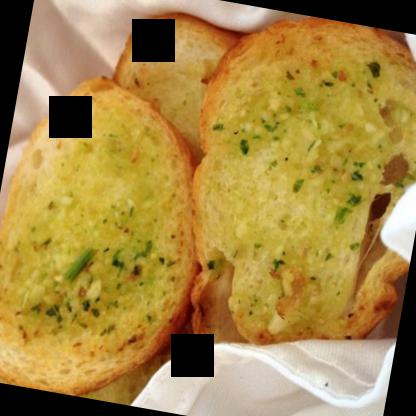toast bread: (160, 5, 415, 384), (0, 63, 233, 413)
